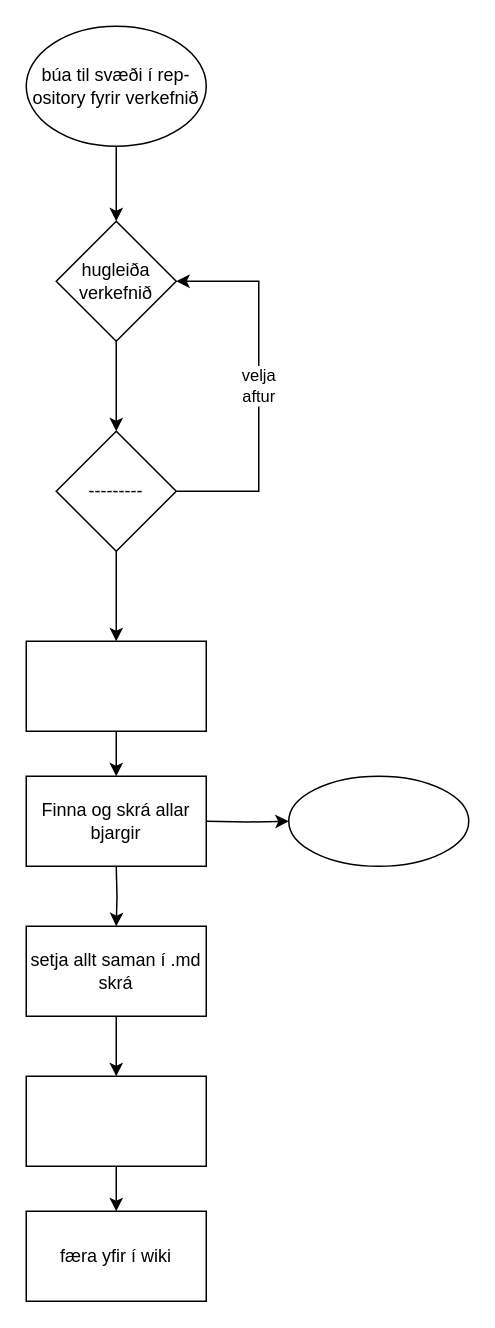
Image size: 495x1328. Some labels were removed from this diagram. Here are the shapes that lost their labels. From the top down, the centre of each, then its label:
At (115,685): "hanna og teikna upp þraut".
At (378,820): "gera flæðirit verkefnis".
At (115,1120): "fínn pússa texta og annað".
